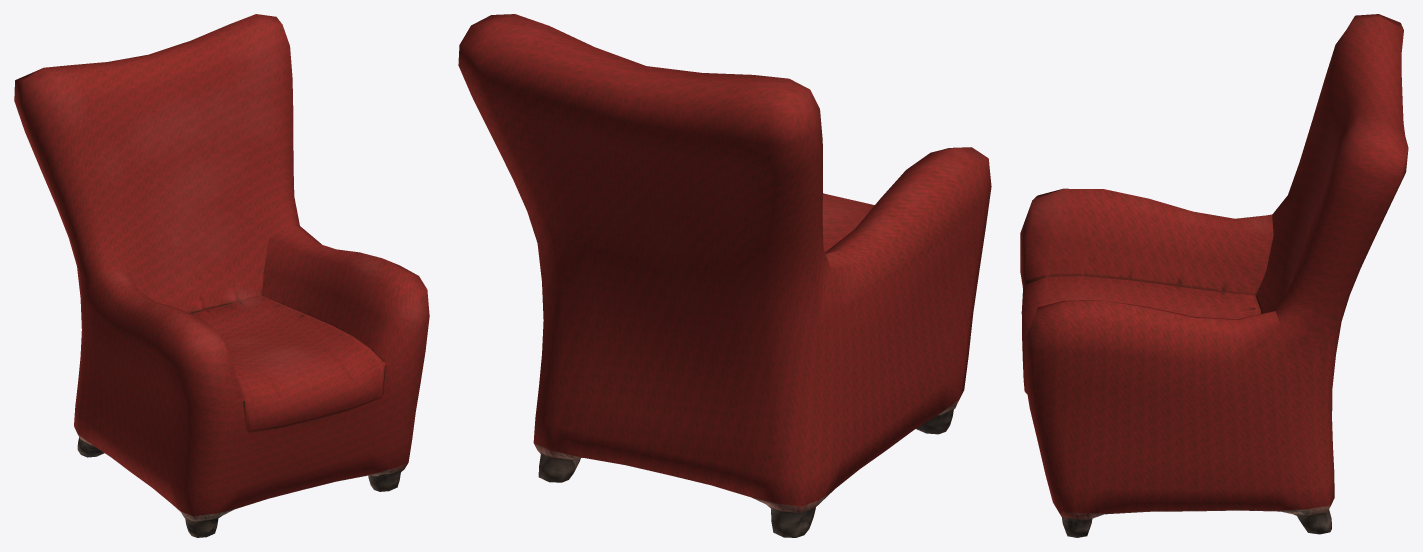
File: armchair.fbx
The picture shows the model from 3 angles, left to right: view 1: azimuth 30°, elevation 25°; view 2: azimuth 150°, elevation 25°; view 3: azimuth 270°, elevation 25°; orthographic projection. The views are drawn at different scales.
Visible parts, largest first — view 1: Armchair; view 2: Armchair; view 3: Armchair.
Part boxes in pixels (x1,y1,x2,y2): Armchair: (14,14,429,537); Armchair: (458,14,991,537); Armchair: (1020,14,1408,537).
Size of the model in its own units: 1.12 by 1.49 by 1.29.
